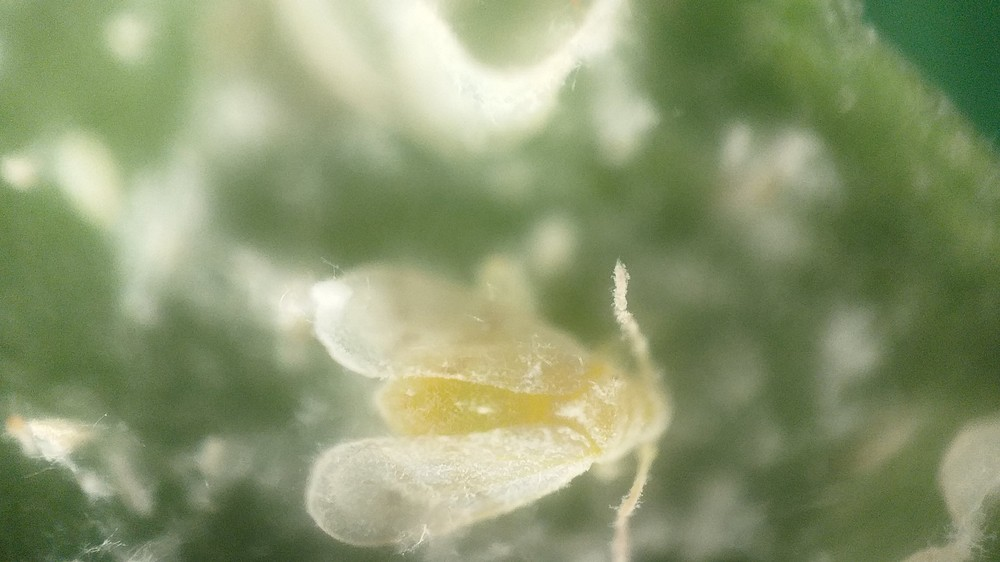Mosca Blanca: (293, 238, 693, 562)
